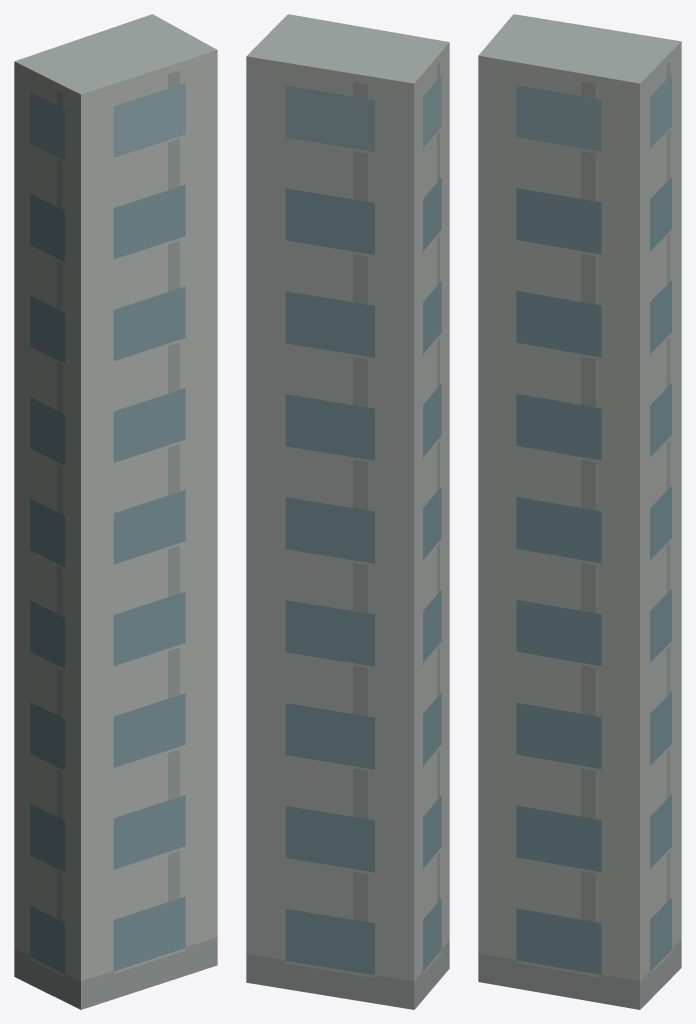
File: survey-upis-32810563.glb
The picture shows the model from 3 angles, left to right: view 1: azimuth 30°, elevation 25°; view 2: azimuth 150°, elevation 25°; view 3: azimuth 330°, elevation 25°; orthographic projection.
Parts seen in each view (by area): view 1: survey-upis-32810563.tmp; view 2: survey-upis-32810563.tmp; view 3: survey-upis-32810563.tmp.
Part boxes in pixels (x1,y1,x2,y2): survey-upis-32810563.tmp: [14, 14, 217, 1009]; survey-upis-32810563.tmp: [246, 14, 449, 1009]; survey-upis-32810563.tmp: [478, 14, 681, 1009].
Size of the model in its own units: 5.16 by 27.45 by 3.53.
